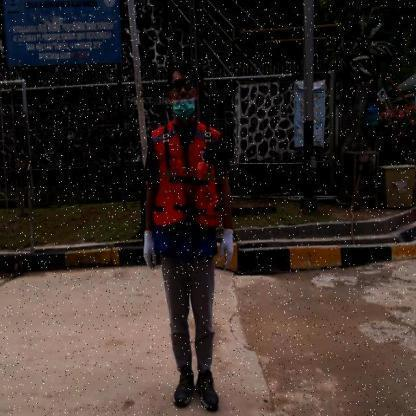boots: (172, 366, 196, 408), (196, 370, 220, 412)
gloves: (216, 228, 236, 270), (139, 229, 159, 271)
goggles: (170, 80, 196, 92)
mask: (168, 98, 196, 120)
vest: (152, 158, 222, 228)
